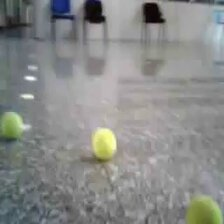tennis: (185, 194, 224, 224), (91, 128, 117, 157), (1, 109, 21, 137)
